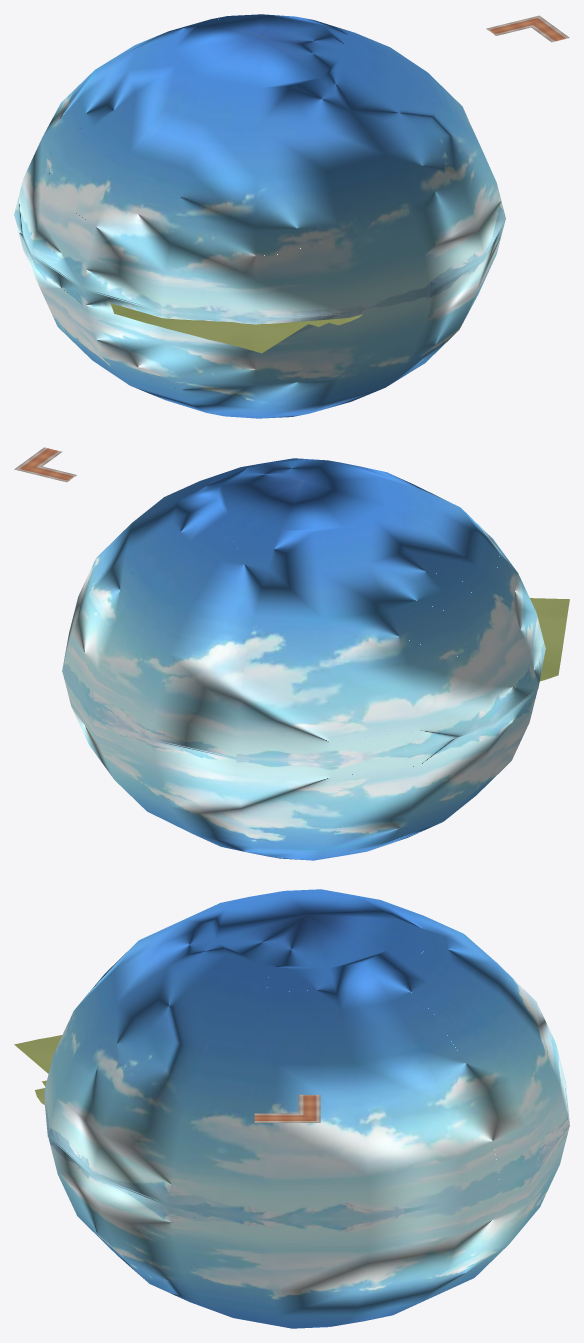
The model's file is track.glb.
3 views of the same model, one above another, from view 1: azimuth 30°, elevation 25°; view 2: azimuth 150°, elevation 25°; view 3: azimuth 270°, elevation 25° (orthographic). The views are drawn at different scales.
Visible parts, largest first — view 1: sky:E_XinTianEBao_06, sky:E_XinTianEBao_06_01, E_XinTianEBao_01, E_XinTianEBao_GJY_02|lm2; view 2: sky:E_XinTianEBao_06, sky:E_XinTianEBao_06_01, E_XinTianEBao_01, E_XinTianEBao_GJY_02|lm2; view 3: sky:E_XinTianEBao_06, sky:E_XinTianEBao_06_01, E_XinTianEBao_GJY_02|lm2, E_XinTianEBao_01.
Part boxes in pixels (x1,y1,x2,y2): sky:E_XinTianEBao_06: (14,14,505,320); sky:E_XinTianEBao_06_01: (14,215,505,418); E_XinTianEBao_01: (110,303,362,353); E_XinTianEBao_GJY_02|lm2: (486,15,569,42); sky:E_XinTianEBao_06: (62,458,545,762); sky:E_XinTianEBao_06_01: (62,671,537,860); E_XinTianEBao_01: (530,598,569,681); E_XinTianEBao_GJY_02|lm2: (14,447,76,482); sky:E_XinTianEBao_06: (44,889,569,1220); sky:E_XinTianEBao_06_01: (48,1125,569,1328); E_XinTianEBao_GJY_02|lm2: (254,1094,320,1122); E_XinTianEBao_01: (14,1035,62,1104).
Size of the model in its own units: 17256 by 11920 by 15451.
62 materials, 62 textured.
